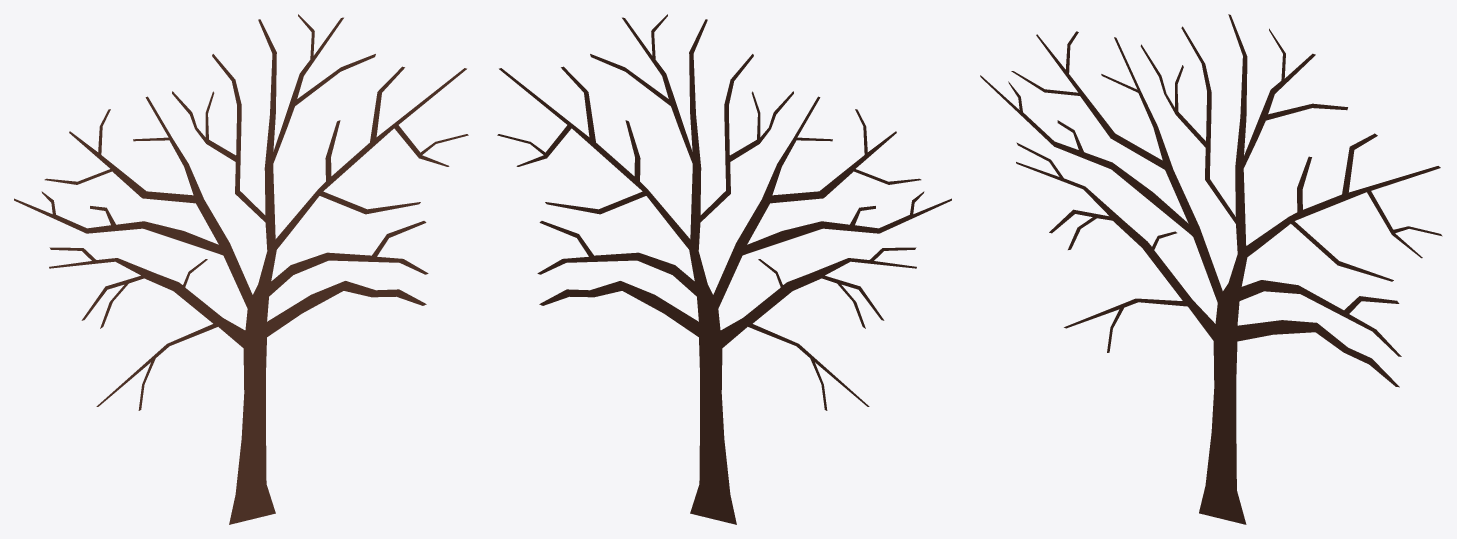
The model's file is OakTree_01.fbx.
3 views of the same model, side by side, from view 1: azimuth 30°, elevation 25°; view 2: azimuth 150°, elevation 25°; view 3: azimuth 330°, elevation 25° (orthographic).
Visible parts, largest first — view 1: nurbsToPoly1; view 2: nurbsToPoly1; view 3: nurbsToPoly1.
Boxes of the visible parts, x1,y1,x2,y2 form: nurbsToPoly1: (14,14,468,524); nurbsToPoly1: (497,14,951,524); nurbsToPoly1: (980,14,1442,524).
Bounding box in the file's own units: 16.85 × 17.64 × 0.
1 material, 1 textured.
